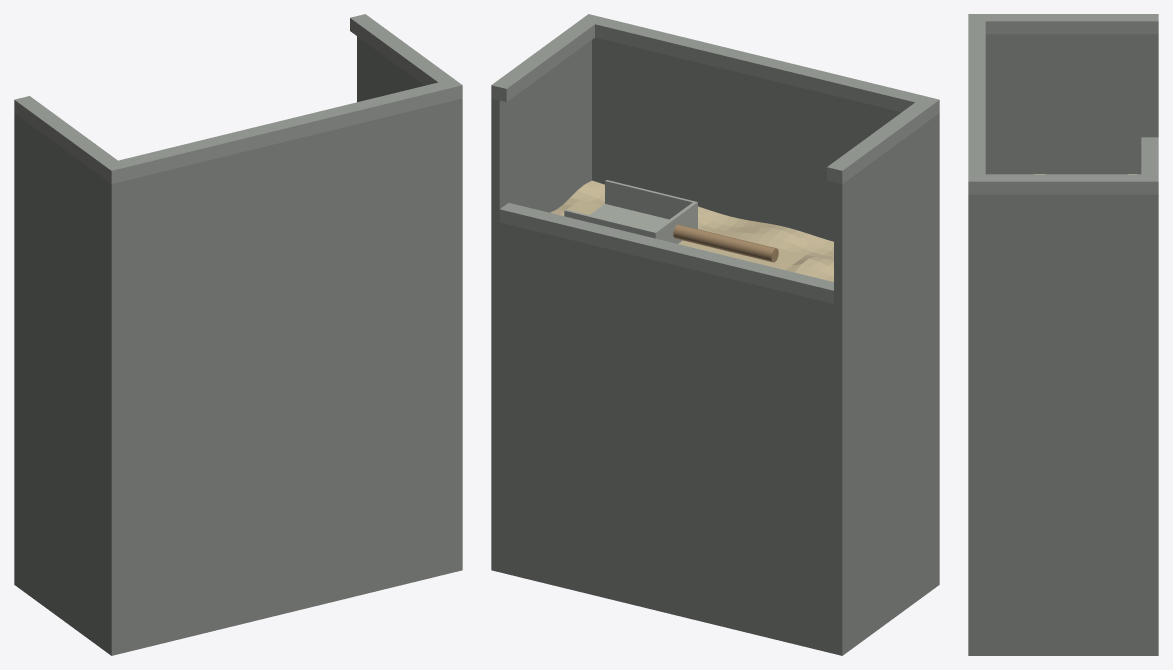
File: parametric-class-sand-bin-crew.glb
3 views of the same model, side by side, from view 1: azimuth 30°, elevation 25°; view 2: azimuth 150°, elevation 25°; view 3: azimuth 270°, elevation 25° (orthographic). The views are drawn at different scales.
Parts seen in each view (by area): view 1: parametric-class-sand-bin-crew:bin-structure; view 2: parametric-class-sand-bin-crew:bin-structure, parametric-class-sand-bin-crew:sand-scoop, parametric-class-sand-bin-crew:contained-sand; view 3: parametric-class-sand-bin-crew:bin-structure.
Part boxes in pixels (x1,y1,x2,y2): parametric-class-sand-bin-crew:bin-structure: [14, 14, 462, 655]; parametric-class-sand-bin-crew:bin-structure: [491, 14, 939, 655]; parametric-class-sand-bin-crew:sand-scoop: [564, 180, 778, 262]; parametric-class-sand-bin-crew:contained-sand: [550, 180, 833, 281]; parametric-class-sand-bin-crew:bin-structure: [968, 14, 1158, 655].
Size of the model in its own units: 0.5 by 0.66 by 0.24.
